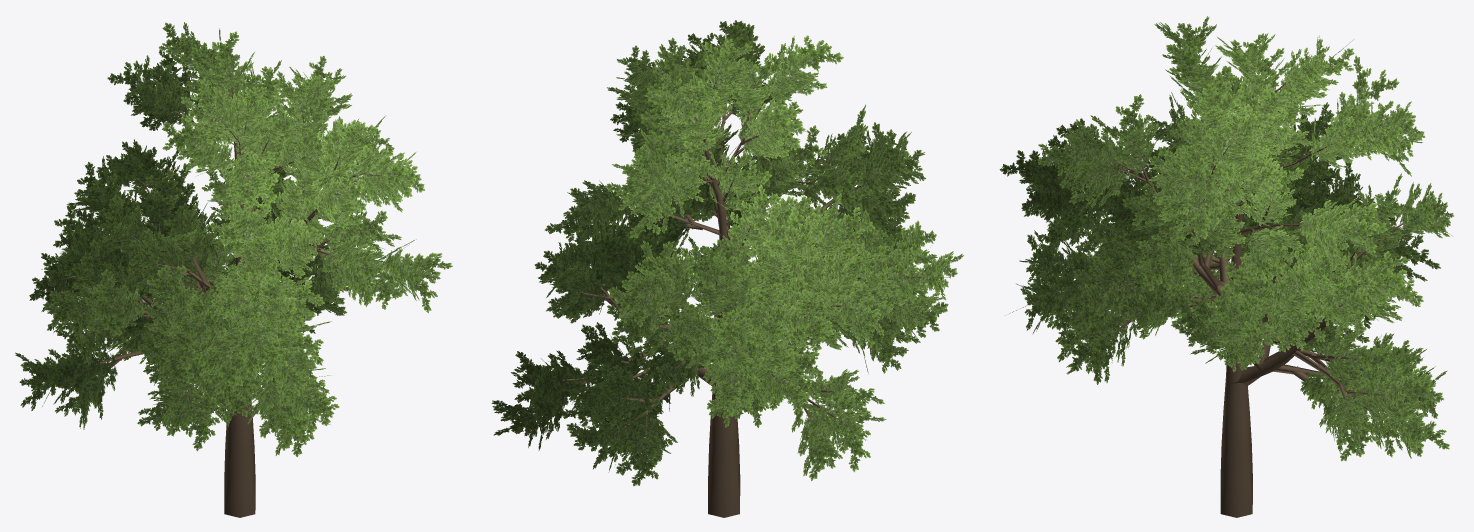
File: oak.glb
The picture shows the model from 3 angles, left to right: view 1: azimuth 30°, elevation 25°; view 2: azimuth 150°, elevation 25°; view 3: azimuth 270°, elevation 25°; orthographic projection. The views are drawn at different scales.
Visible parts, largest first — view 1: Leaves_LOD0, Trunk_LOD0; view 2: Leaves_LOD0, Trunk_LOD0; view 3: Leaves_LOD0, Trunk_LOD0.
Boxes of the visible parts, left/top/right/bottom form: Leaves_LOD0: left=15, top=22, right=452, bottom=456; Trunk_LOD0: left=66, top=74, right=404, bottom=517; Leaves_LOD0: left=491, top=20, right=963, bottom=486; Trunk_LOD0: left=539, top=72, right=922, bottom=517; Leaves_LOD0: left=999, top=16, right=1453, bottom=461; Trunk_LOD0: left=1057, top=64, right=1409, bottom=517.
Size of what is drawn, in the model's own units: 3.52 by 4.4 by 3.84.
Materials: 2 (1 with a texture image).
